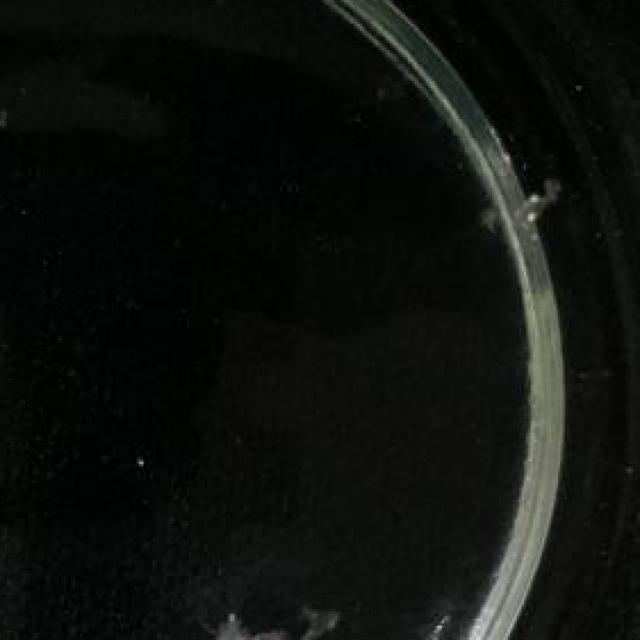Microplastic: (200, 606, 348, 640)
